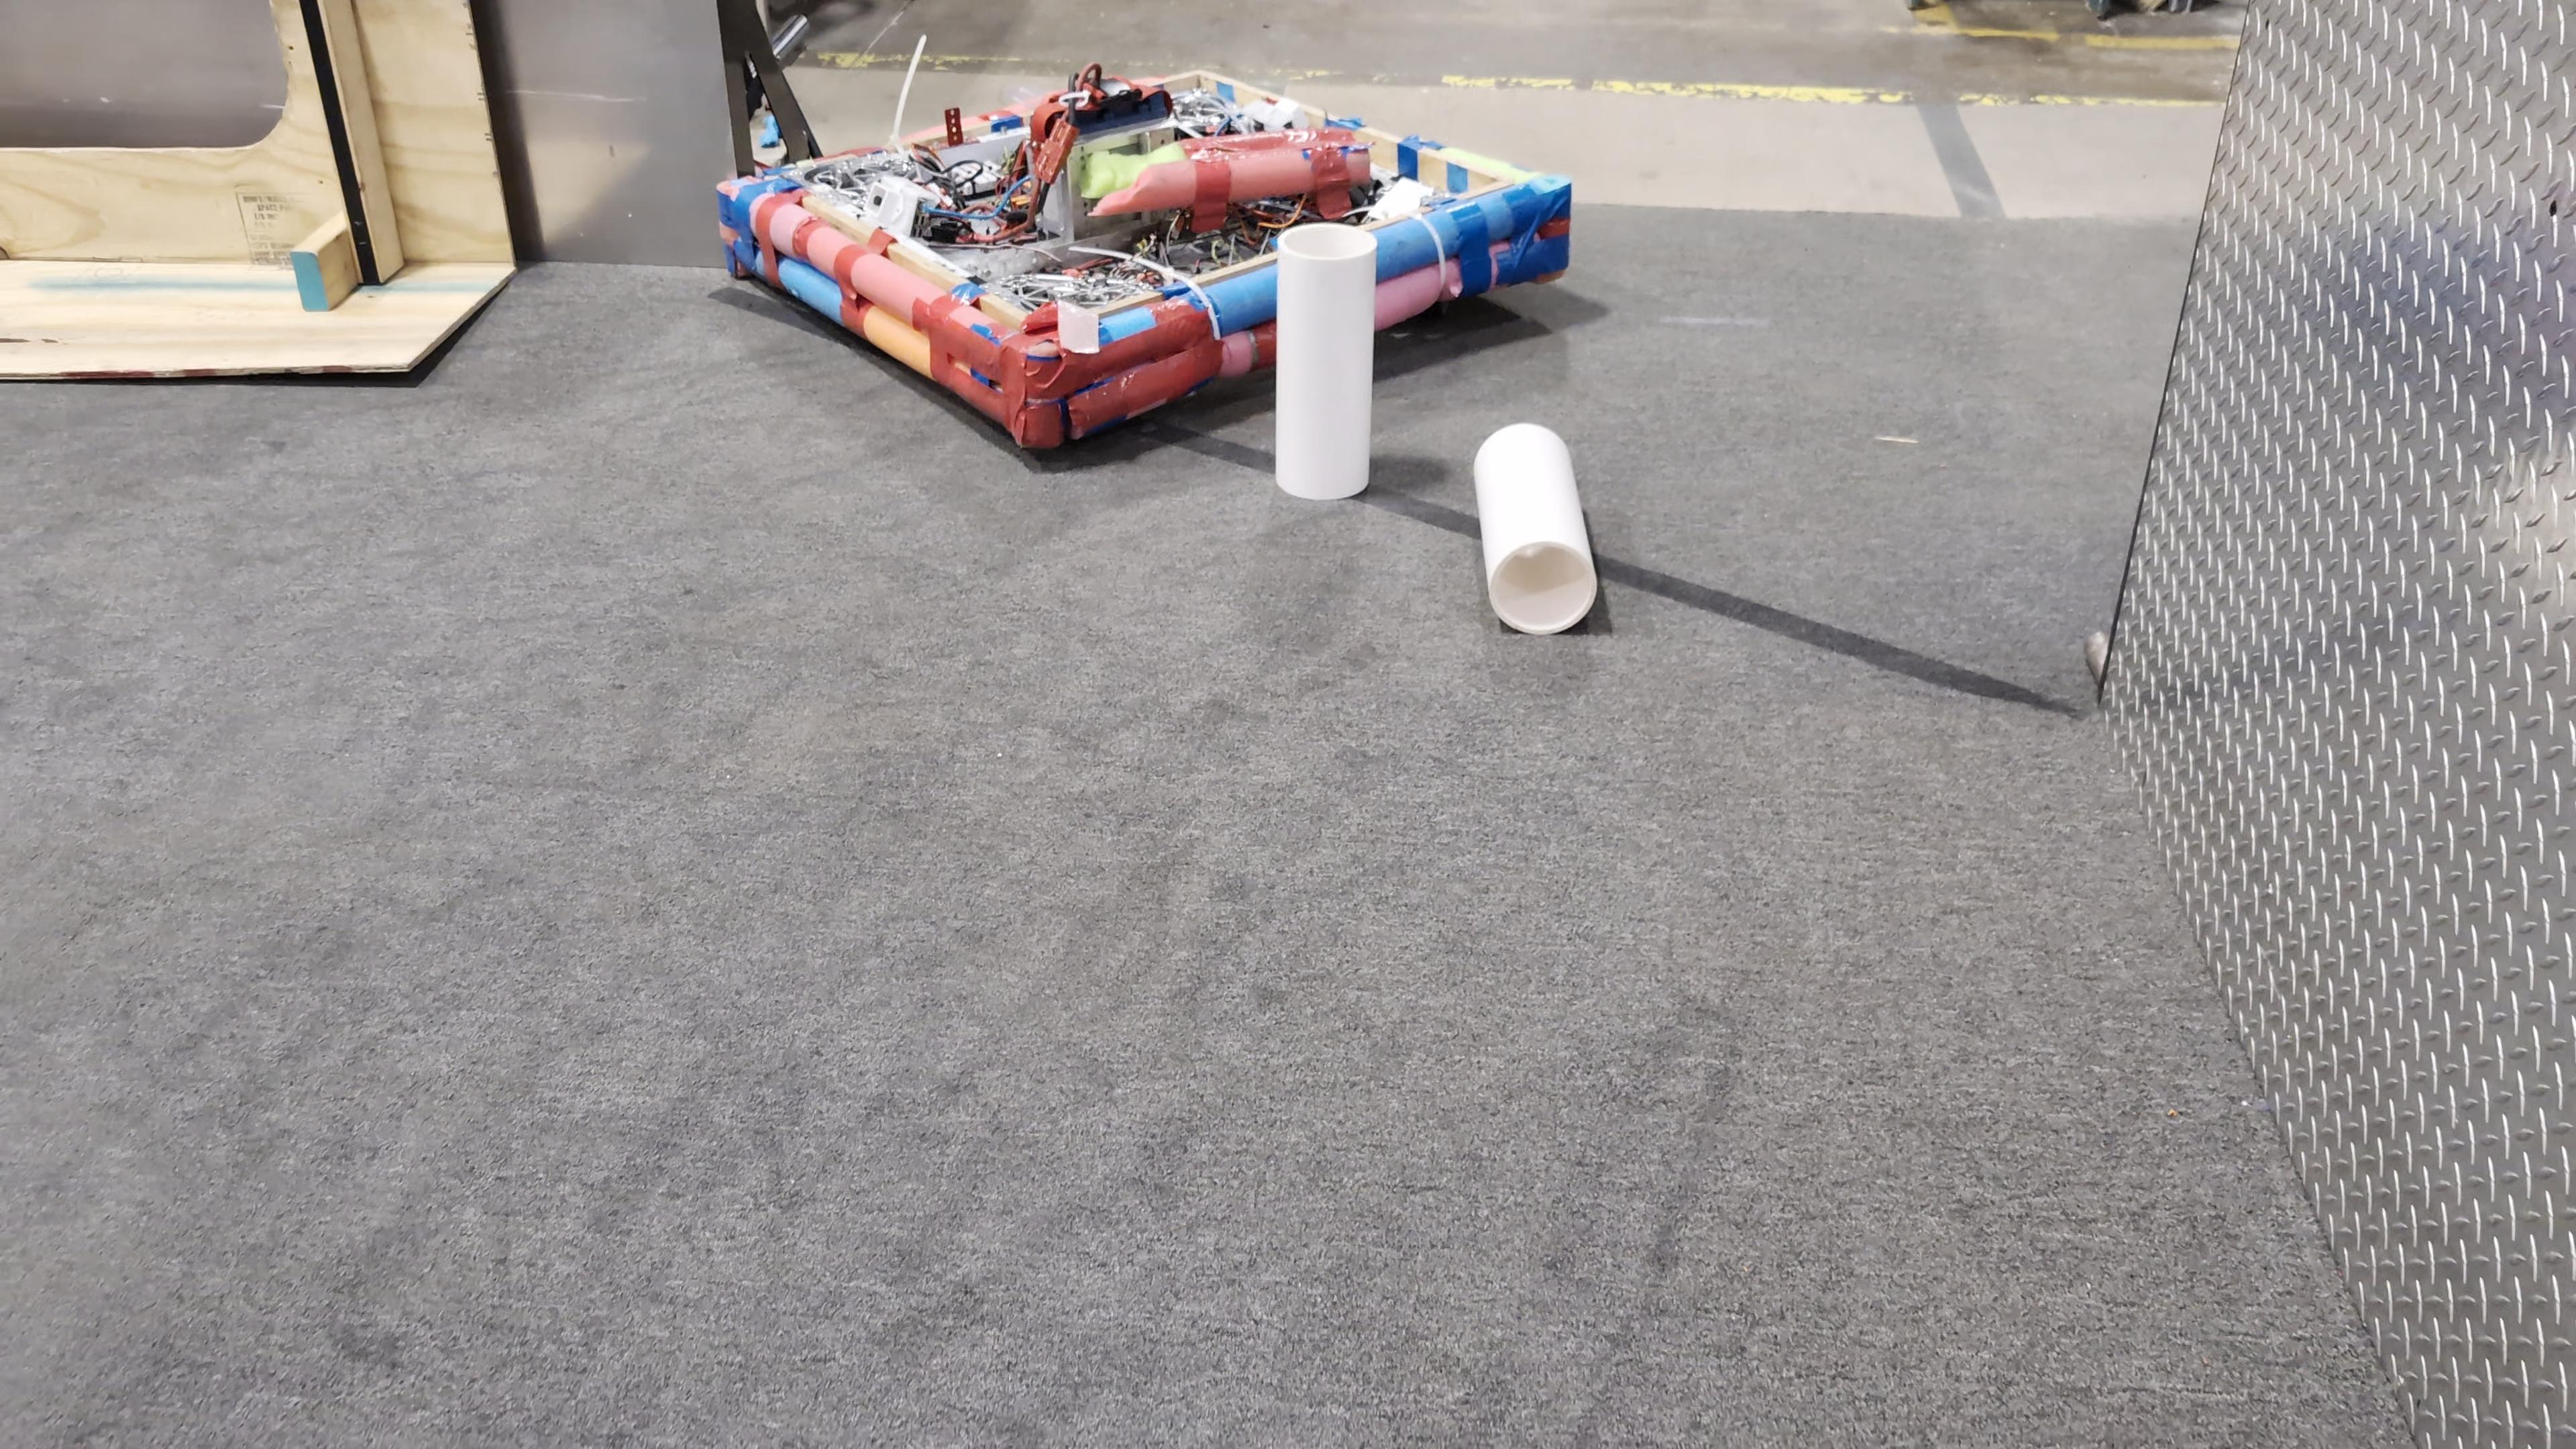coral: (1276, 225, 1373, 501), (1474, 425, 1598, 635)
